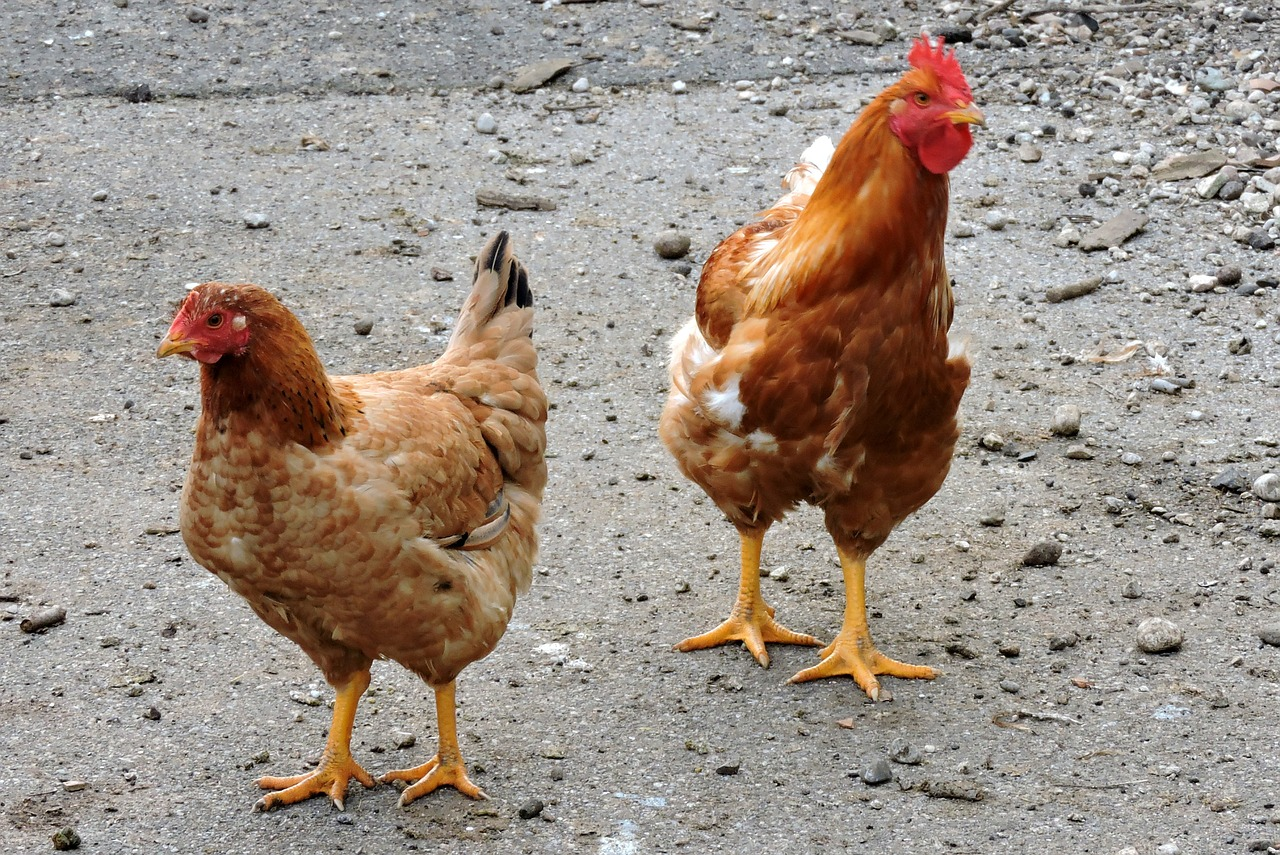chicken: (118, 201, 571, 803), (666, 21, 1026, 740)
